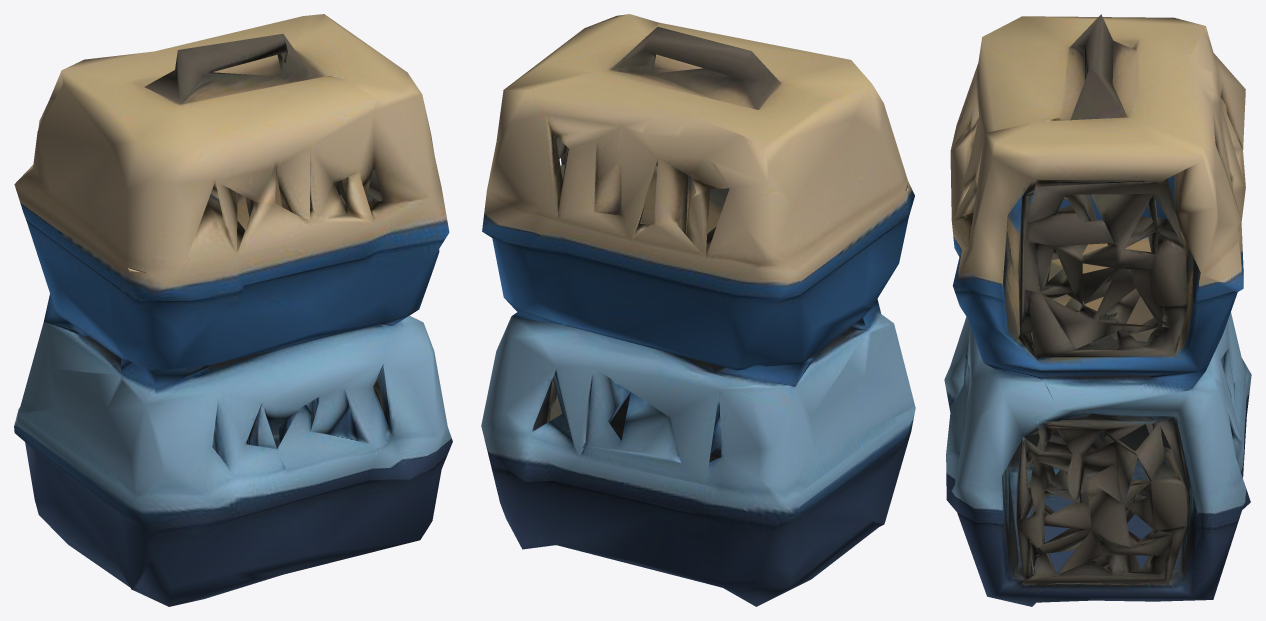
The model's file is crate-stack.glb.
The picture shows the model from 3 angles, left to right: view 1: azimuth 30°, elevation 25°; view 2: azimuth 150°, elevation 25°; view 3: azimuth 270°, elevation 25°; orthographic projection.
Parts seen in each view (by area): view 1: tripo_node_87bf1f92-4be1-4ddb-89dc-d63d5935839d; view 2: tripo_node_87bf1f92-4be1-4ddb-89dc-d63d5935839d; view 3: tripo_node_87bf1f92-4be1-4ddb-89dc-d63d5935839d.
Part boxes in pixels (x1,y1,x2,y2): tripo_node_87bf1f92-4be1-4ddb-89dc-d63d5935839d: [14, 14, 452, 606]; tripo_node_87bf1f92-4be1-4ddb-89dc-d63d5935839d: [481, 14, 915, 606]; tripo_node_87bf1f92-4be1-4ddb-89dc-d63d5935839d: [944, 14, 1251, 606].
Size of the model in its own units: 0.6692 by 1 by 0.5508.
1 material, 1 textured.
